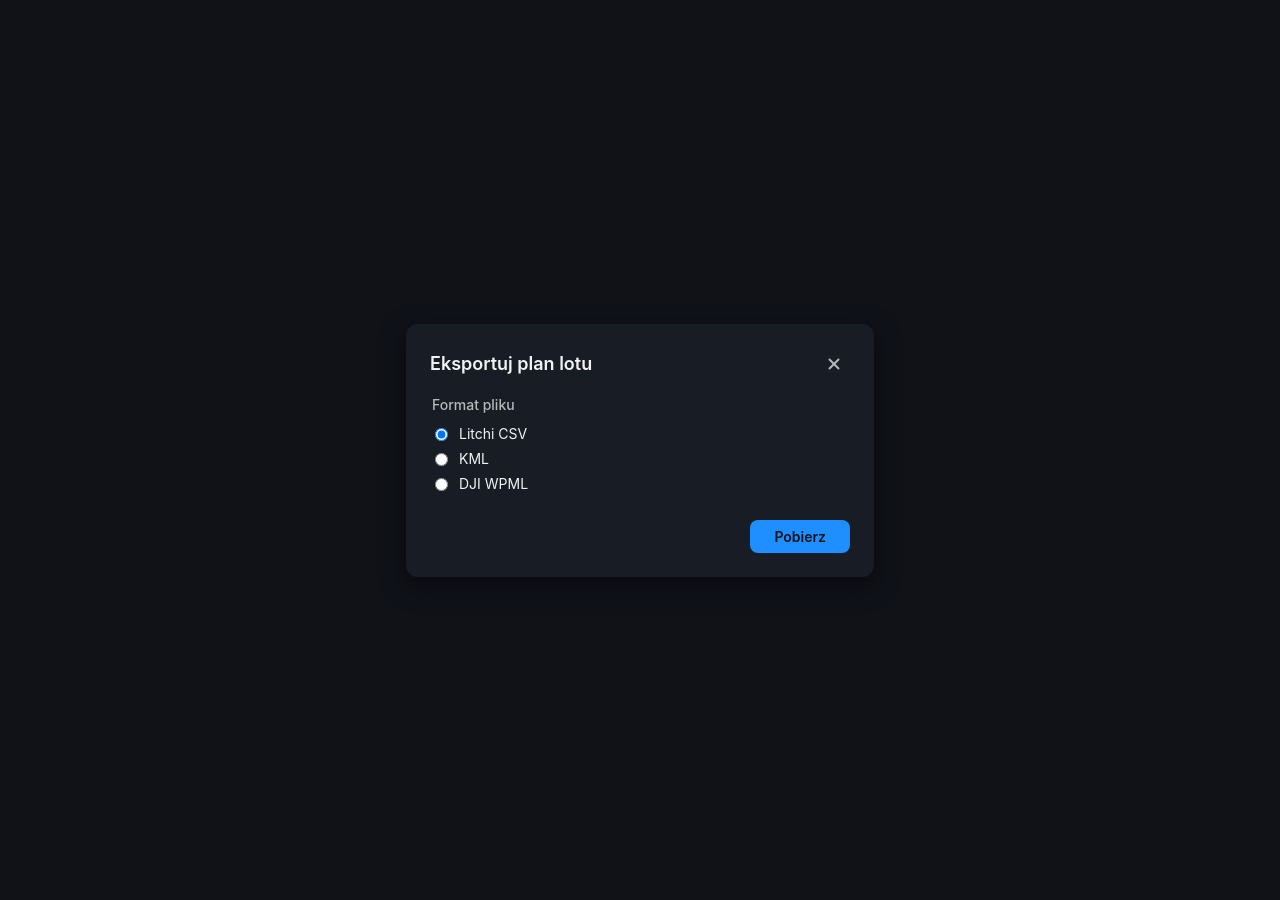
Test: ExportDialogComponent › error handling › should show inline error on HTTP 404 failure (keep dialog open)
The width and height of the screenshot is (1280, 900).
Click the button with class "export-dialog__download-btn": click(800, 536) 750,520 -> 850,552
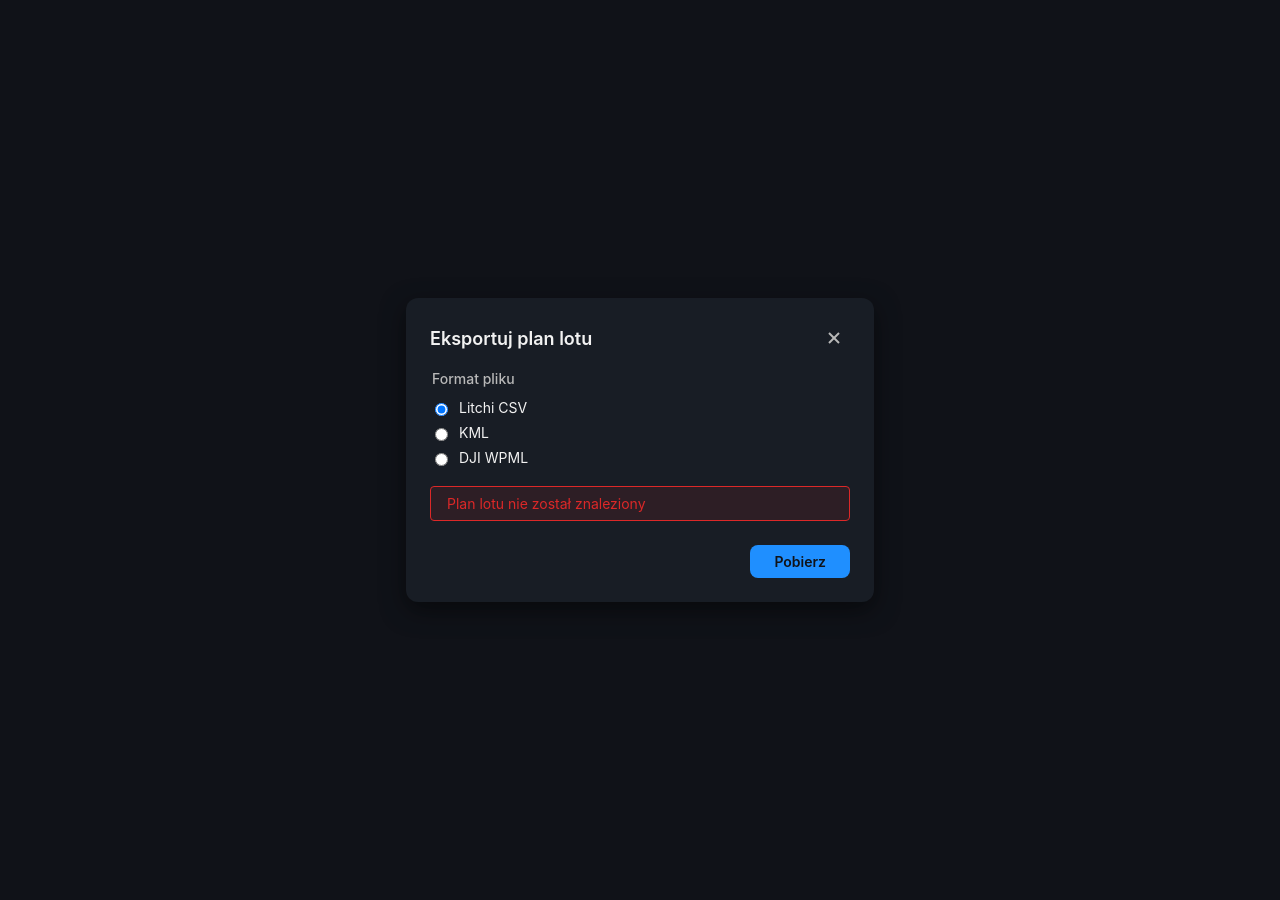
Now the message "Plan lotu nie został znaleziony" is shown, box 430,486 -> 850,521
Now the message with class "export-dialog__error" shows "nie został znaleziony", box 447,495 -> 646,512
